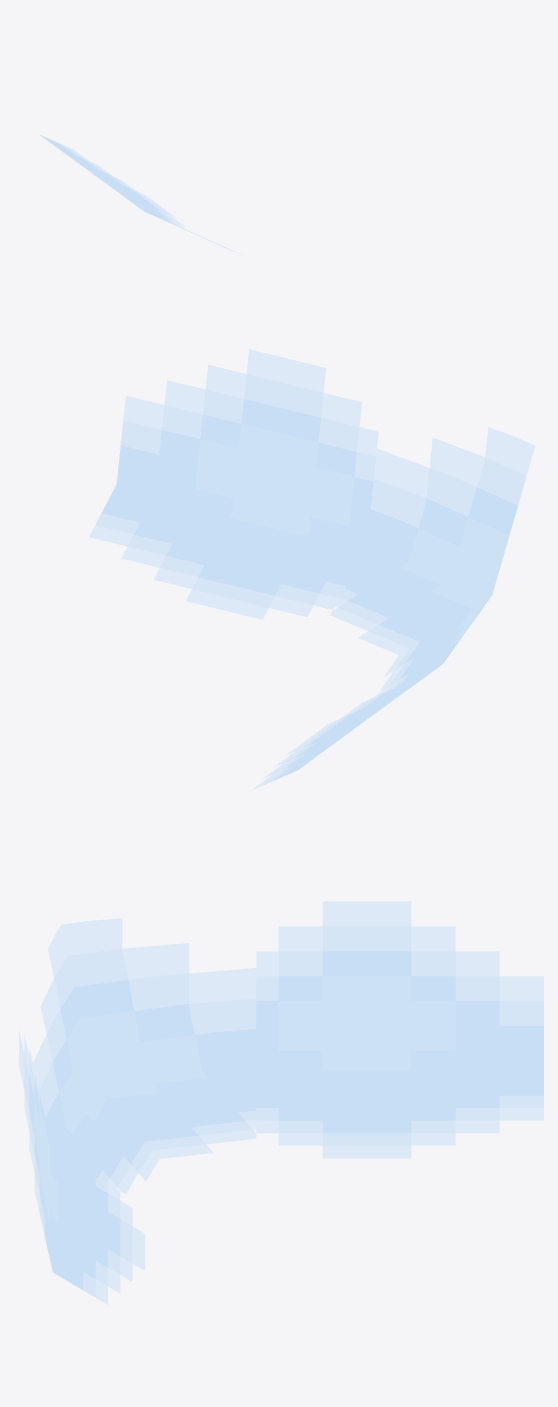
3 renders of one model, top to bottom at view 1: azimuth 30°, elevation 25°; view 2: azimuth 150°, elevation 25°; view 3: azimuth 270°, elevation 25°, orthographic. The views are drawn at different scales.
Bounding box in the file's own units: 0.8369 × 0.5088 × 0.8369.
1 material, 1 textured.
